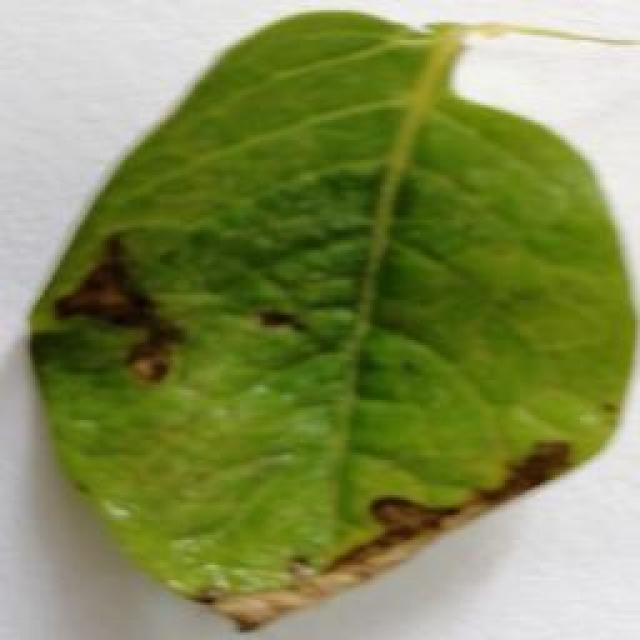Potato_Late_Blight: (26, 10, 629, 632)
